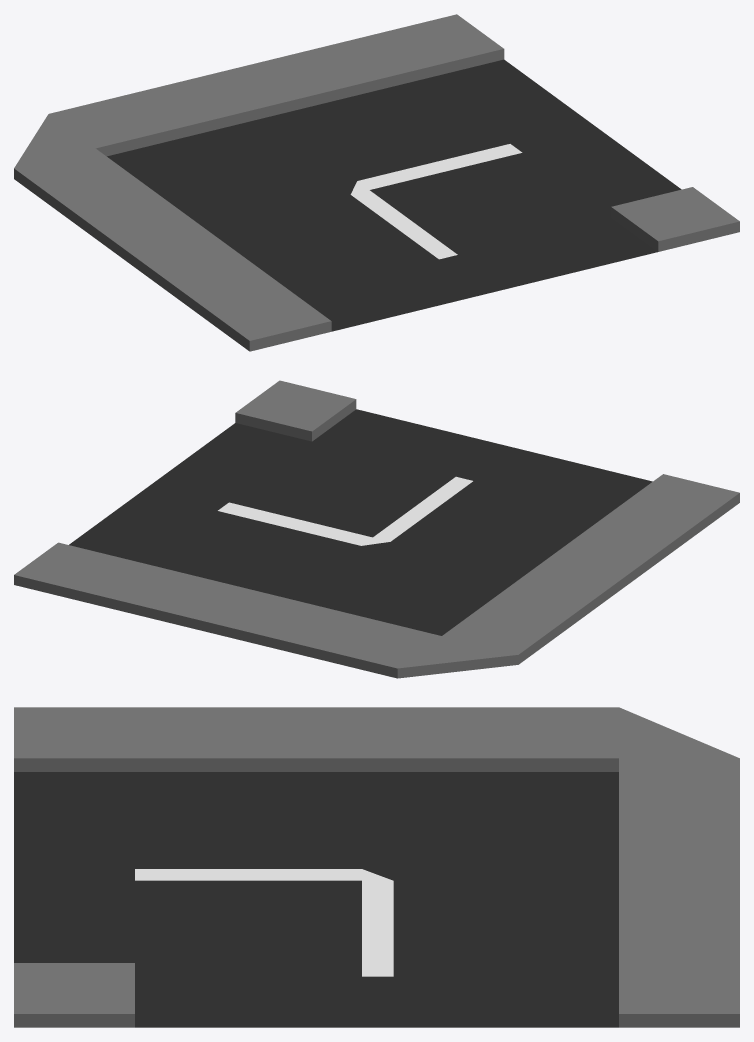
Rendered from RoadBend.fbx.
3 renders of one model, top to bottom at view 1: azimuth 30°, elevation 25°; view 2: azimuth 150°, elevation 25°; view 3: azimuth 270°, elevation 25°, orthographic. The views are drawn at different scales.
Visible parts, largest first — view 1: RoadBend; view 2: RoadBend; view 3: RoadBend.
Boxes of the visible parts, left/top/right/bottom form: RoadBend: left=14, top=14, right=739, bottom=351; RoadBend: left=14, top=380, right=739, bottom=678; RoadBend: left=14, top=707, right=739, bottom=1027.
Bounding box in the file's own units: 24 × 0.5 × 24.
1 material, 1 textured.
